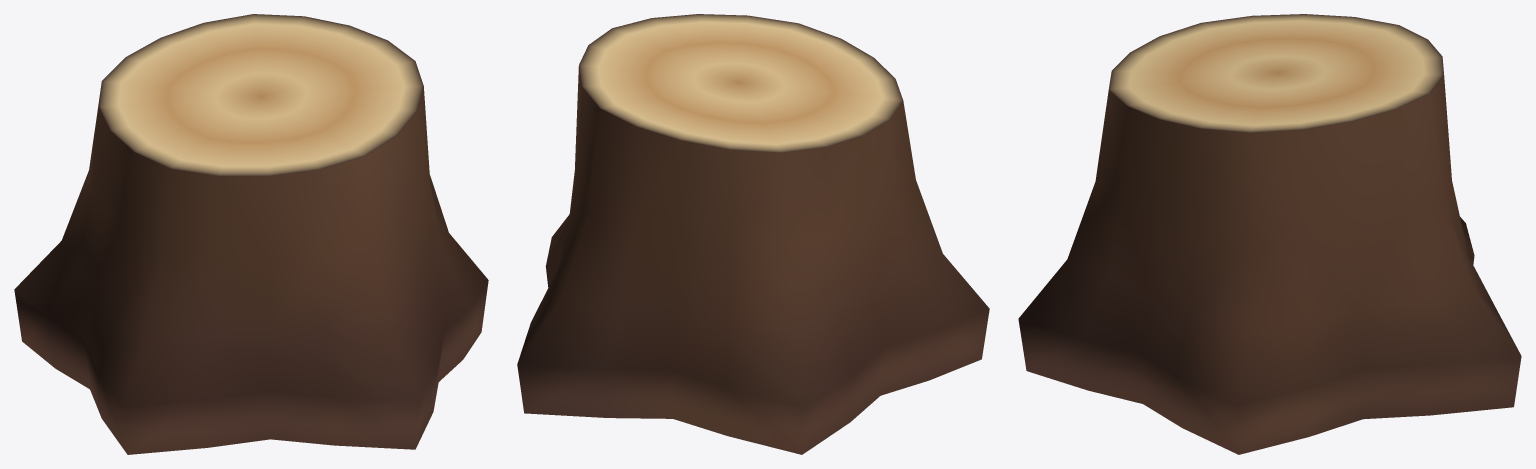
The model's file is stump_1.glb.
3 renders of one model, left to right at view 1: azimuth 30°, elevation 25°; view 2: azimuth 150°, elevation 25°; view 3: azimuth 270°, elevation 25°, orthographic. The views are drawn at different scales.
Parts seen in each view (by area): view 1: stump_1; view 2: stump_1; view 3: stump_1.
Part boxes in pixels (x1,y1,x2,y2): stump_1: (14, 14, 488, 454); stump_1: (517, 14, 989, 454); stump_1: (1018, 14, 1521, 454).
Size of the model in its own units: 0.8249 by 0.5626 by 0.8632.
